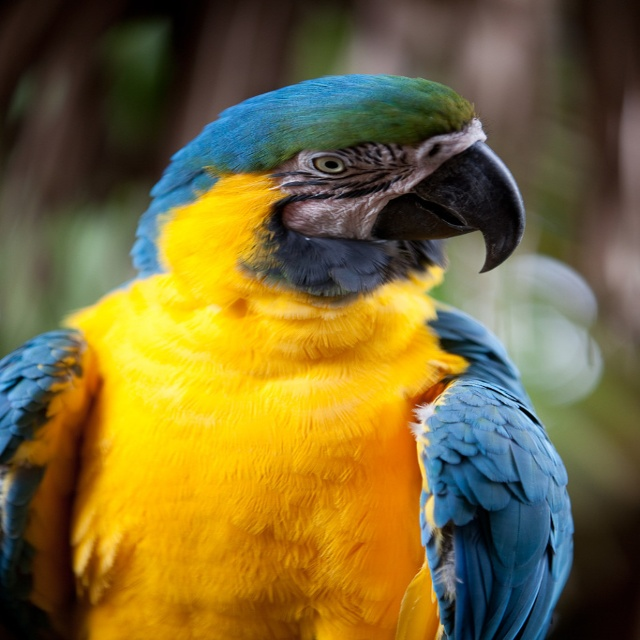Parrot: (0, 73, 577, 636)
